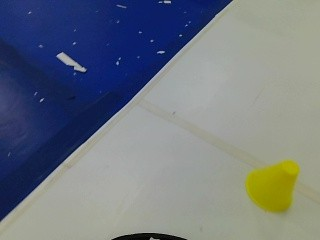cone: (245, 155, 298, 213)
